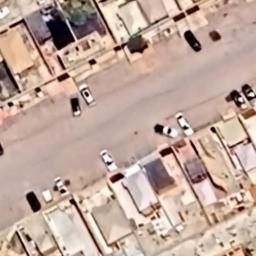sedan: (170, 111, 202, 140), (99, 145, 120, 173), (78, 80, 98, 108), (55, 175, 78, 199), (227, 87, 249, 112), (184, 27, 202, 57), (152, 121, 178, 141), (241, 76, 256, 110), (67, 94, 83, 118)
unknown: (23, 188, 43, 213)
